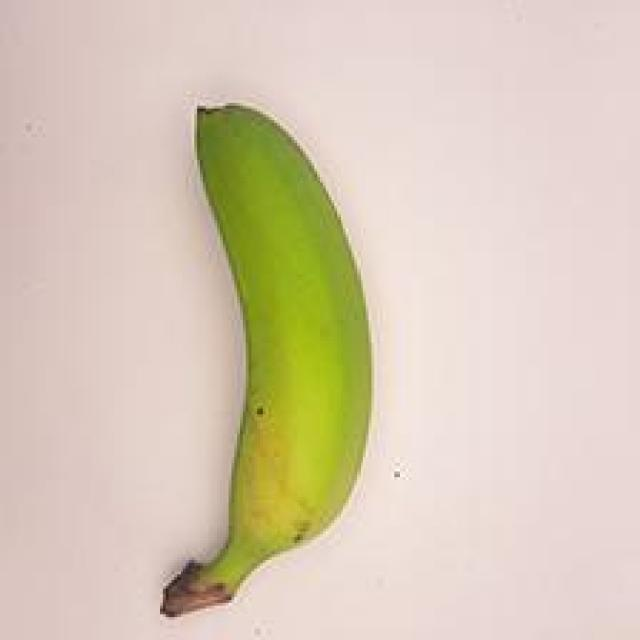Unripe: (103, 83, 414, 621)
